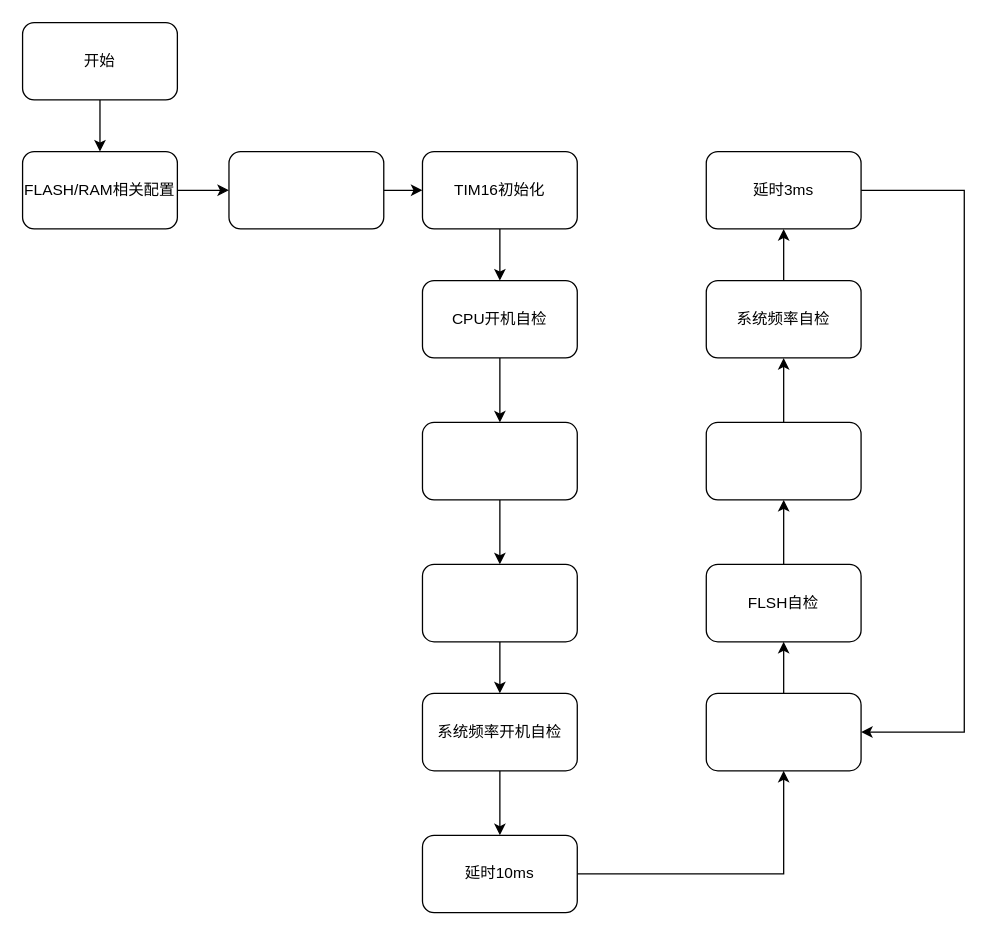
This 997x935 diagram has some shape labels left out. Each missing label, with the centre of its shape:
CPU相关自检: the point at 783,731
FLSH开机自检: the point at 499,460
RAM开机自检: the point at 499,602
RAM自检: the point at 783,460
STL_SCH_Init(): the point at 306,189
